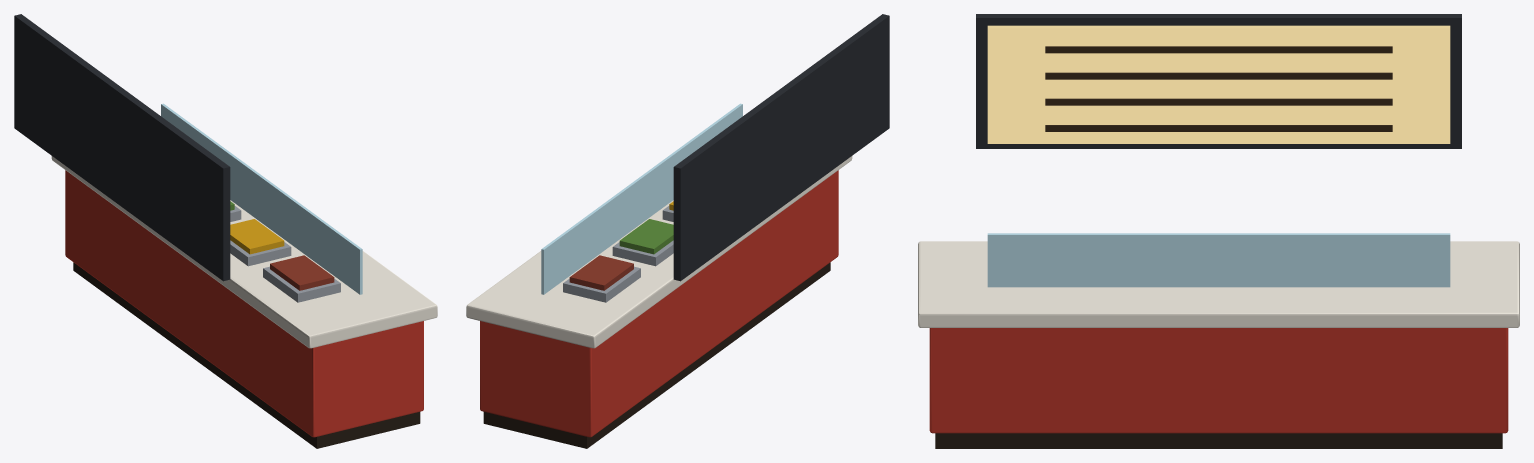
The model's file is food-counter.glb.
3 views of the same model, side by side, from view 1: azimuth 30°, elevation 25°; view 2: azimuth 150°, elevation 25°; view 3: azimuth 270°, elevation 25° (orthographic). The views are drawn at different scales.
Parts seen in each view (by area): view 1: part-counter, part-menu-frame, part-counter-top, part-guard, part-kick, part-steel, part-food-0, part-food-1; view 2: part-counter, part-menu-frame, part-counter-top, part-guard, part-kick, part-steel, part-food-0, part-food-2; view 3: part-counter, part-menu, part-counter-top, part-guard, part-menu-frame, part-menu-ink, part-kick.
Boxes of the visible parts, box(x1,y1,x2,y2) form: part-counter: box(65, 170, 423, 437); part-menu-frame: box(14, 14, 230, 281); part-counter-top: box(51, 156, 437, 348); part-guard: box(161, 103, 362, 294); part-kick: box(73, 262, 420, 448); part-steel: box(230, 206, 340, 302); part-food-0: box(270, 255, 334, 290); part-food-1: box(230, 219, 284, 254); part-counter: box(480, 170, 838, 437); part-menu-frame: box(673, 14, 889, 281); part-counter-top: box(466, 156, 852, 348); part-guard: box(541, 103, 742, 294); part-kick: box(483, 262, 830, 448); part-steel: box(563, 206, 673, 302); part-food-0: box(569, 255, 633, 290); part-food-2: box(619, 219, 673, 254); part-counter: box(929, 328, 1508, 433); part-menu: box(987, 25, 1450, 143); part-counter-top: box(918, 241, 1519, 327); part-guard: box(987, 233, 1450, 287); part-menu-frame: box(976, 14, 1461, 148); part-menu-ink: box(1045, 46, 1392, 131); part-kick: box(935, 433, 1502, 448).
Size of the model in its own units: 44.2 by 63.5 by 104.
